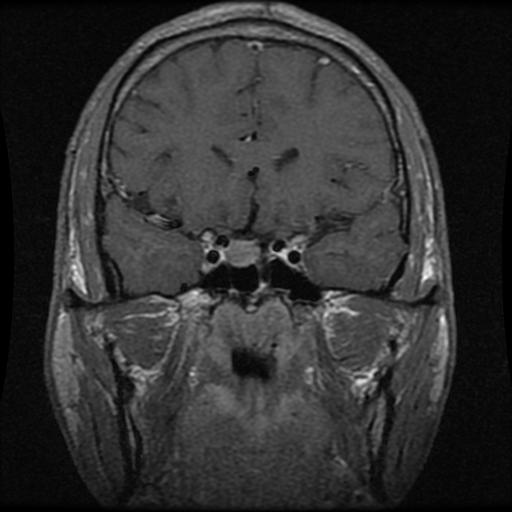Pituirity_tumour: (222, 239, 262, 265)
